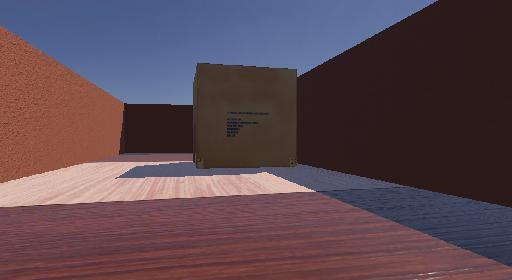CardboardBox: (185, 54, 309, 179)
